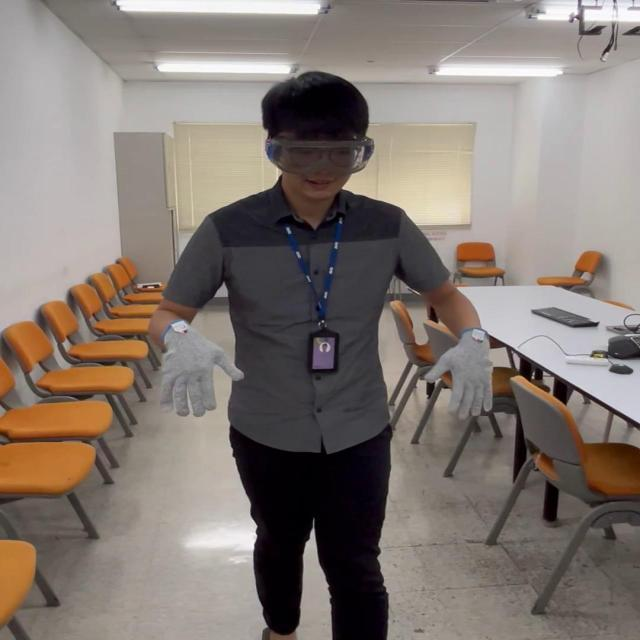gloved_hand: (148, 316, 248, 415), (416, 322, 498, 418)
